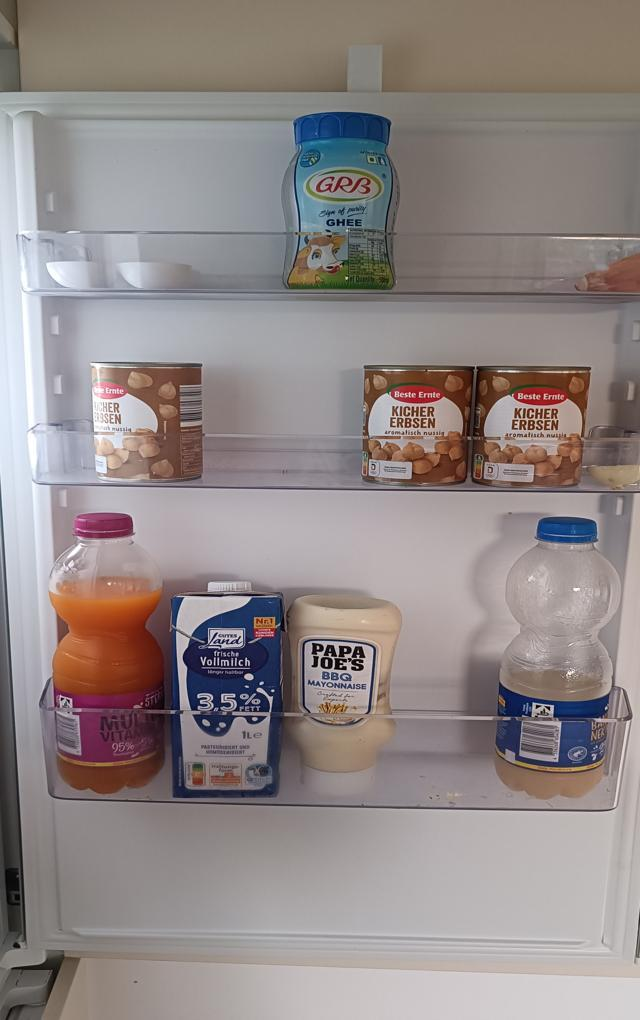bananajuice: (499, 518, 625, 797)
chickpeas: (92, 359, 206, 487), (361, 362, 473, 485), (478, 368, 590, 487)
ghee: (277, 108, 401, 297)
mayoniasie: (283, 590, 402, 796)
milk: (168, 580, 286, 799)
orangejuice: (45, 510, 167, 795)
